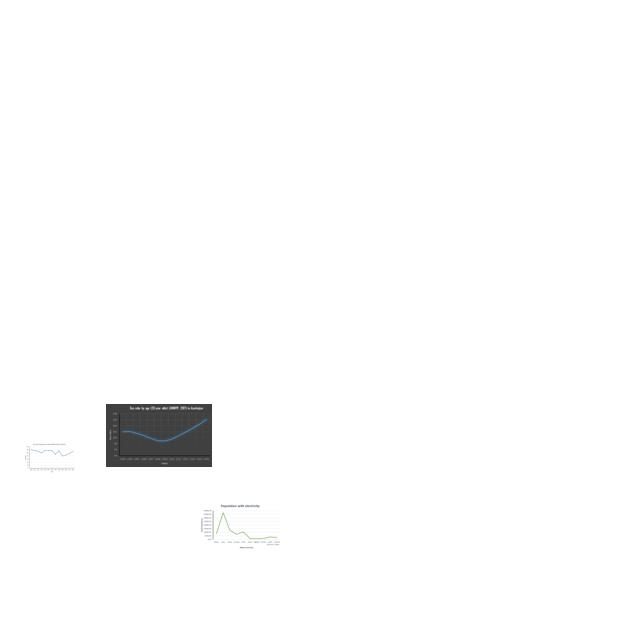Graph: (106, 404, 212, 467), (198, 502, 282, 551), (24, 442, 76, 473)
